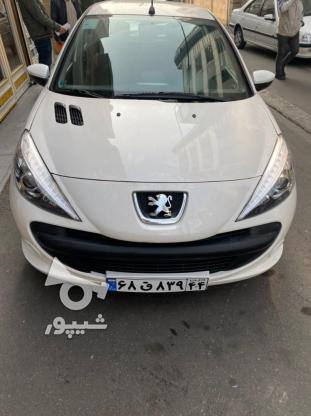car: (106, 275, 207, 294)
